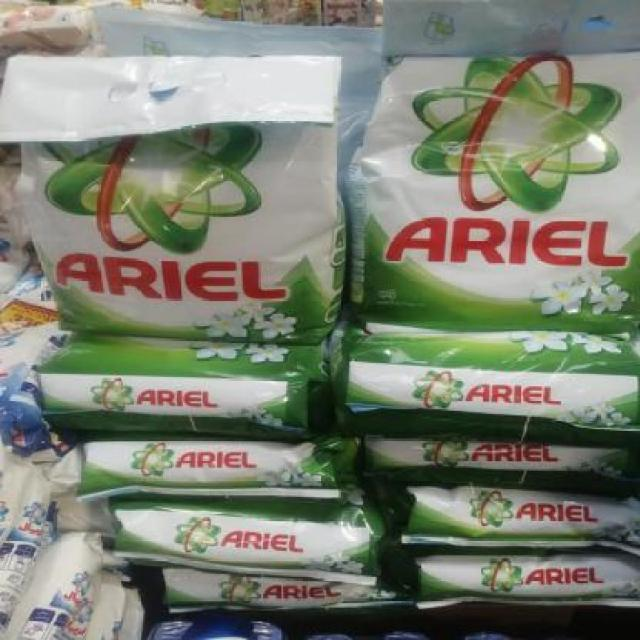Detergent: (17, 47, 332, 342), (358, 48, 638, 335), (359, 51, 636, 337), (39, 340, 318, 440), (346, 329, 637, 420), (55, 429, 350, 505), (110, 503, 382, 572), (402, 486, 638, 560), (361, 434, 639, 491), (417, 547, 638, 613)
